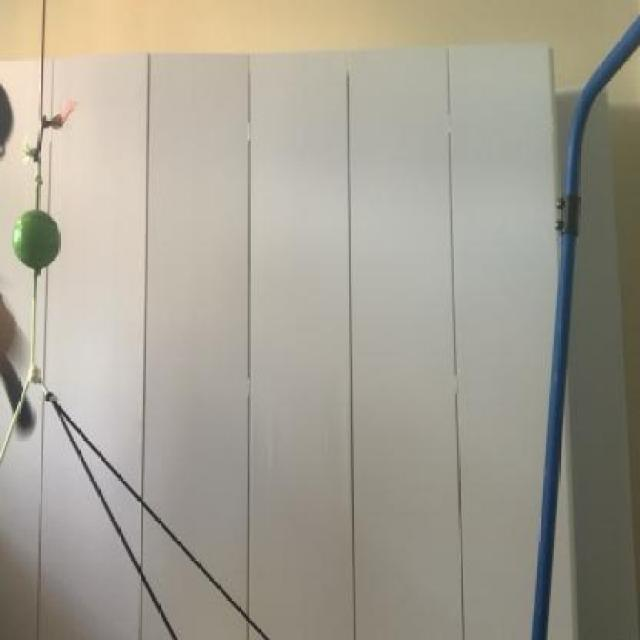baseball: (6, 203, 65, 274)
